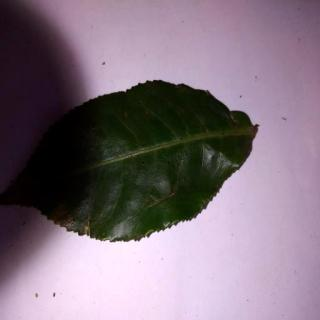Bird Eye Spot: (16, 80, 260, 242)
